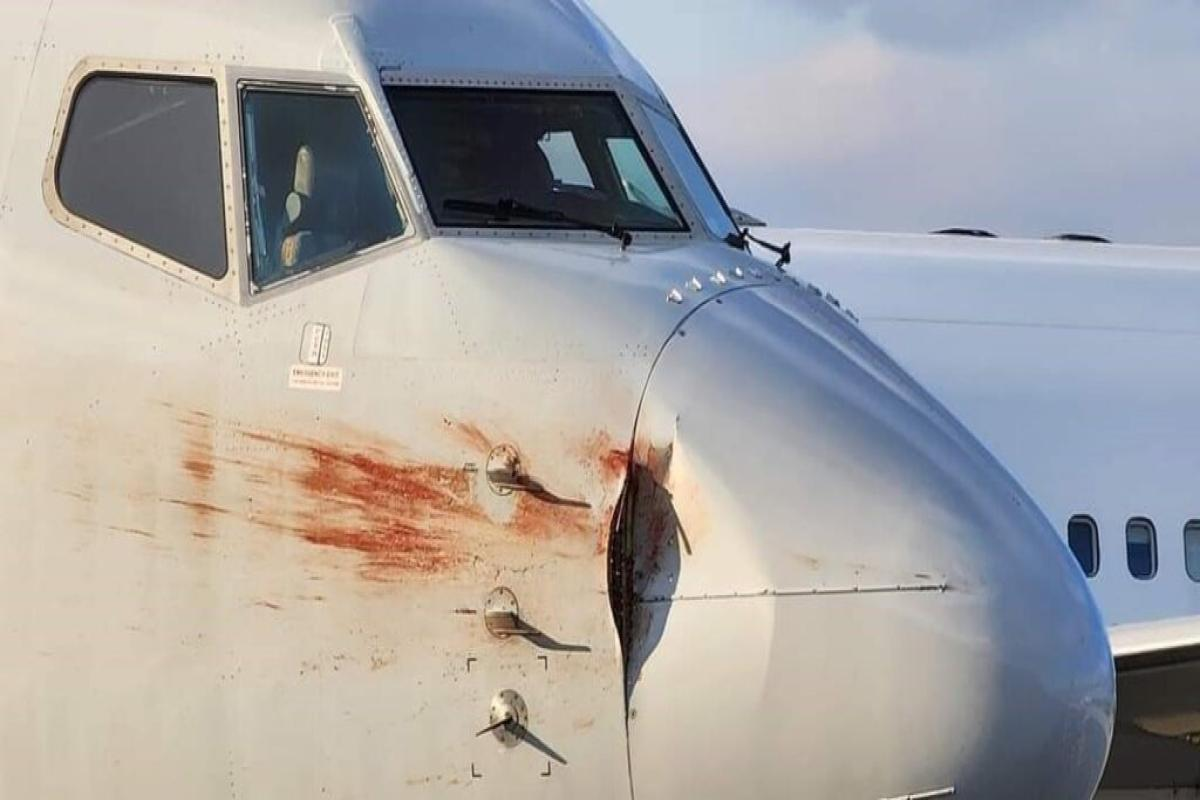Fuselage_damage: (583, 417, 800, 760)
